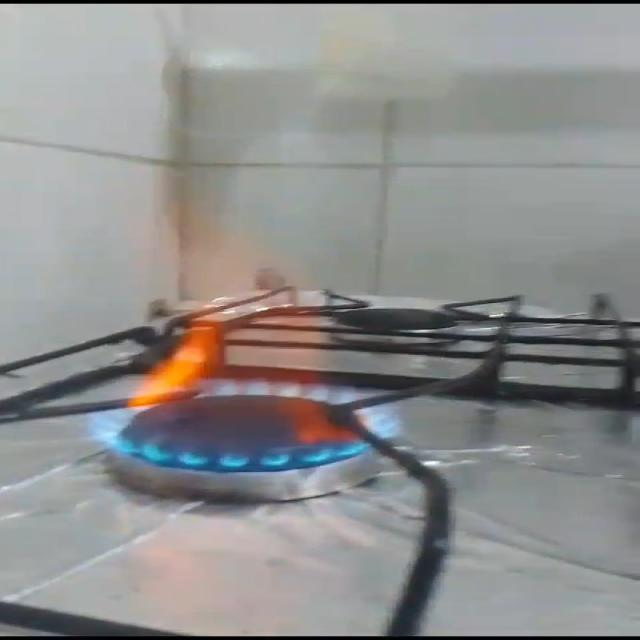fogo-ypXI: (85, 190, 411, 471)
